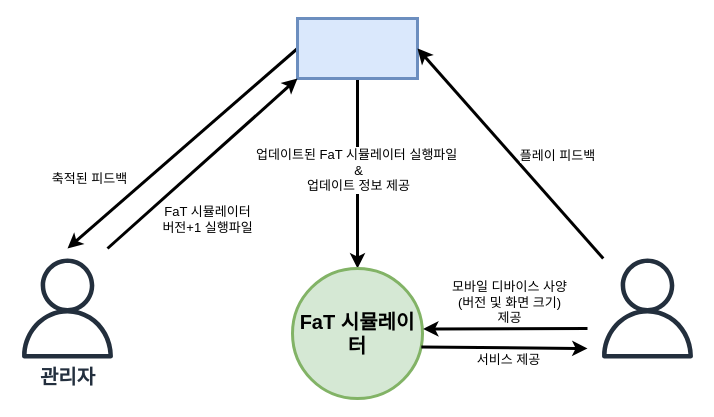
Some shapes in this 714 by 417 pixel diagram are drawn without their labels. The box of each missing label's shape, as (x1, y1, x2, y2) in pixels:
사용자: (597, 258, 697, 358)
앱스토어: (296, 16, 418, 80)
